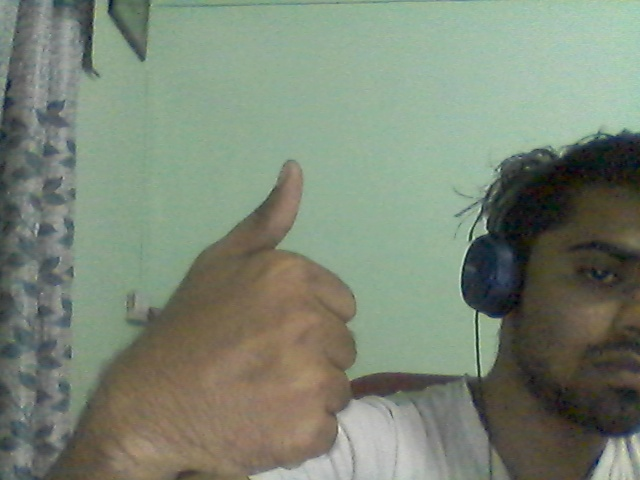Yes: (108, 117, 428, 480)
